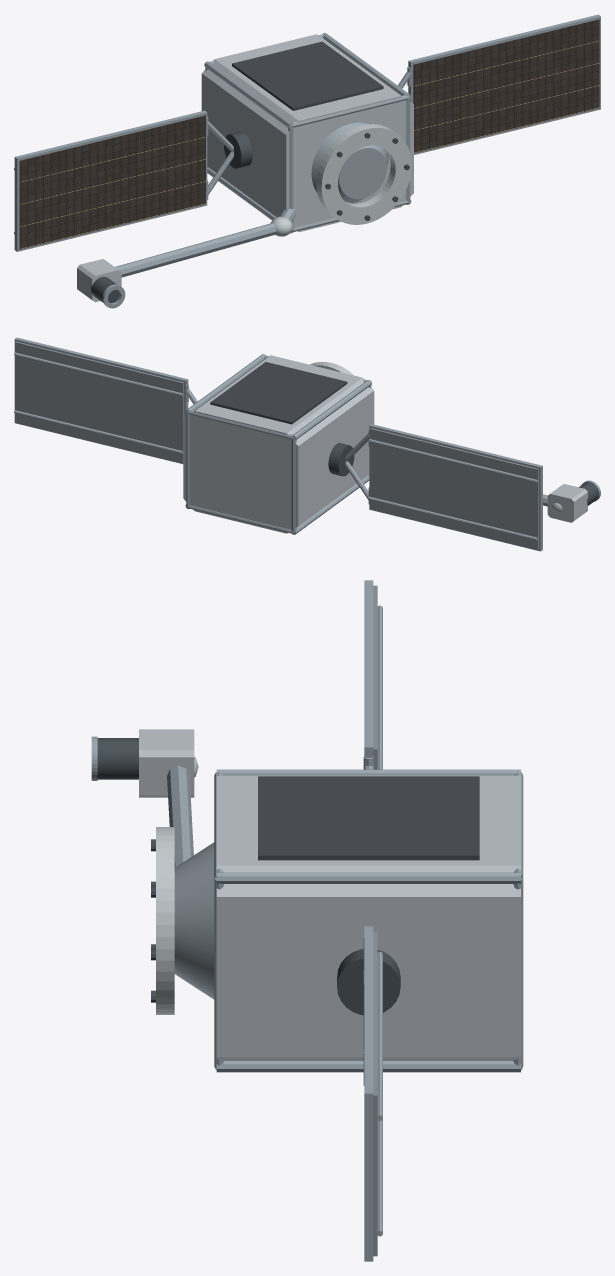
The model's file is mep.glb.
3 renders of one model, top to bottom at view 1: azimuth 30°, elevation 25°; view 2: azimuth 150°, elevation 25°; view 3: azimuth 270°, elevation 25°, orthographic. The views are drawn at different scales.
Visible parts, largest first — view 1: Photovoltaic cell strings (×2), Insulated pod equipment bay, Side blanket panel, Client interface flange, Solar wing perimeter (×2), Client interface neck, Articulated propulsion boom, Longitudinal corner rail (×3), Thruster electronics, Array axle bearing, End deck crossmember, Electric propulsion head (+1 smaller); view 2: Array rear laminate (×2), Insulated pod equipment bay, Side blanket panel, Solar wing perimeter (×2), Array rear stiffener (×4), Longitudinal corner rail (×3), Thruster electronics, End deck crossmember (×2), End deck frame (×2), Array axle bearing; view 3: Insulated pod equipment bay, Side blanket panel, Longitudinal corner rail (×3), Client interface neck, Solar wing perimeter (×2), Client interface flange, Thruster electronics, Array rear laminate (×2), Array axle bearing, Articulated propulsion boom, Array rear stiffener (×2), Electric propulsion head.
Boxes of the visible parts, left/top/right/bottom form: Photovoltaic cell strings (×2): left=19, top=19, right=599, bottom=249; Insulated pod equipment bay: left=201, top=34, right=413, bottom=231; Side blanket panel: left=232, top=41, right=383, bottom=110; Client interface flange: left=316, top=124, right=411, bottom=224; Solar wing perimeter (×2): left=14, top=14, right=600, bottom=251; Client interface neck: left=311, top=122, right=388, bottom=203; Articulated propulsion boom: left=115, top=223, right=276, bottom=277; Longitudinal corner rail (×3): left=204, top=33, right=411, bottom=233; Thruster electronics: left=77, top=259, right=121, bottom=302; Array axle bearing: left=224, top=131, right=252, bottom=168; End deck crossmember: left=291, top=95, right=408, bottom=127; Electric propulsion head: left=91, top=276, right=119, bottom=303; Array rear laminate (×2): left=15, top=341, right=538, bottom=549; Insulated pod equipment bay: left=183, top=355, right=374, bottom=533; Side blanket panel: left=210, top=362, right=347, bottom=424; Solar wing perimeter (×2): left=14, top=337, right=542, bottom=551; Array rear stiffener (×4): left=14, top=352, right=537, bottom=540; Longitudinal corner rail (×3): left=185, top=354, right=371, bottom=534; Thruster electronics: left=547, top=484, right=587, bottom=522; End deck crossmember (×2): left=187, top=410, right=293, bottom=533; End deck frame (×2): left=186, top=412, right=296, bottom=532; Array axle bearing: left=328, top=443, right=354, bottom=476; Insulated pod equipment bay: left=216, top=775, right=520, bottom=1060; Side blanket panel: left=258, top=776, right=479, bottom=860; Longitudinal corner rail (×3): left=216, top=769, right=520, bottom=1072; Client interface neck: left=174, top=842, right=214, bottom=999; Solar wing perimeter (×2): left=364, top=580, right=373, bottom=1261; Client interface flange: left=156, top=827, right=174, bottom=1014; Thruster electronics: left=139, top=729, right=194, bottom=797; Array rear laminate (×2): left=373, top=585, right=377, bottom=1256; Array axle bearing: left=337, top=949, right=400, bottom=1015; Articulated propulsion boom: left=167, top=765, right=193, bottom=867; Array rear stiffener (×2): left=377, top=605, right=382, bottom=1120; Electric propulsion head: left=97, top=738, right=138, bottom=779.
Bounding box in the file's own units: 4.39 × 0.874 × 1.56.
7 materials, 1 textured.
